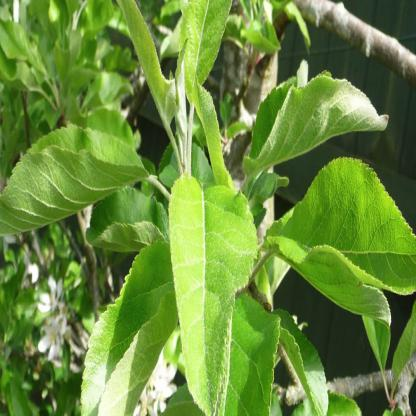apple leaf: (261, 161, 416, 320), (162, 166, 258, 415), (236, 68, 396, 200), (0, 129, 156, 258), (77, 240, 183, 415)
